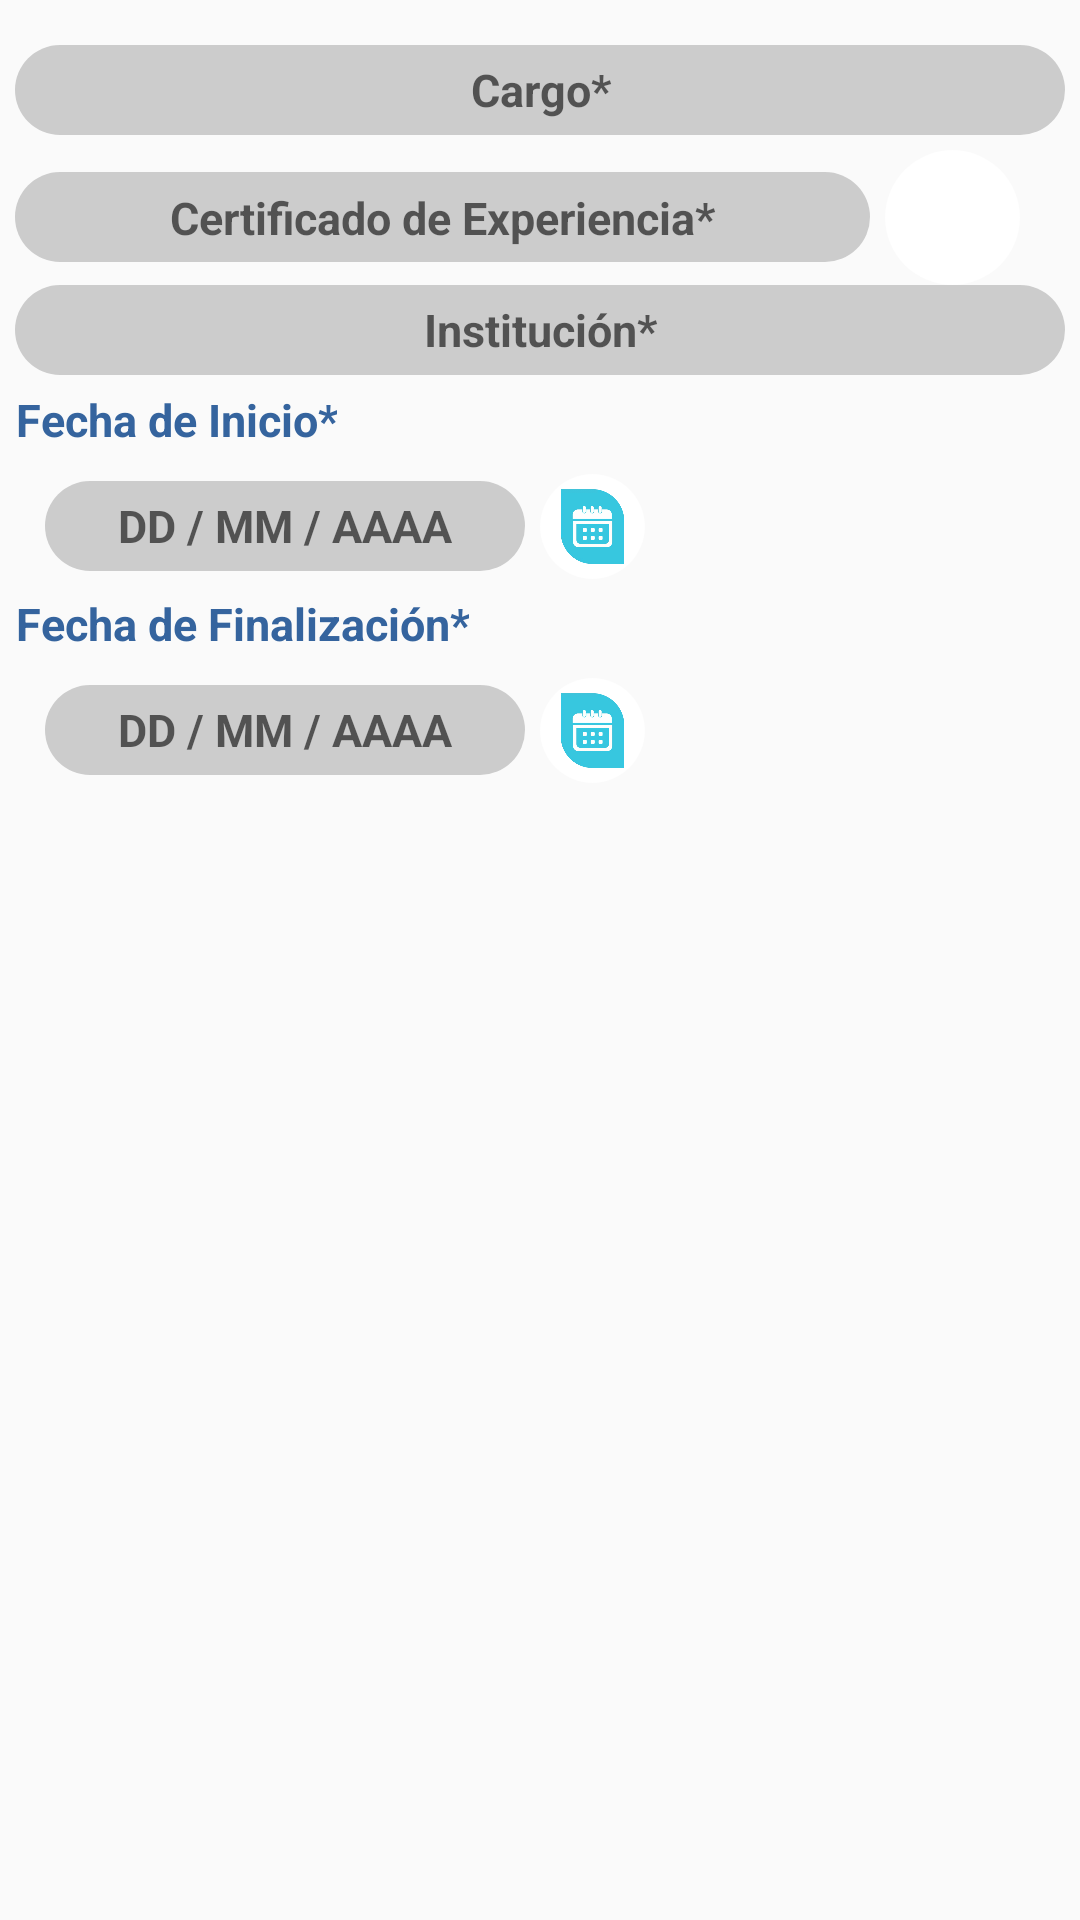

Where icons sit on this 1080 x 1920 app screen, as (x1, y1, x2, y2):
calendar: (561, 489, 624, 564), (561, 693, 624, 768)
